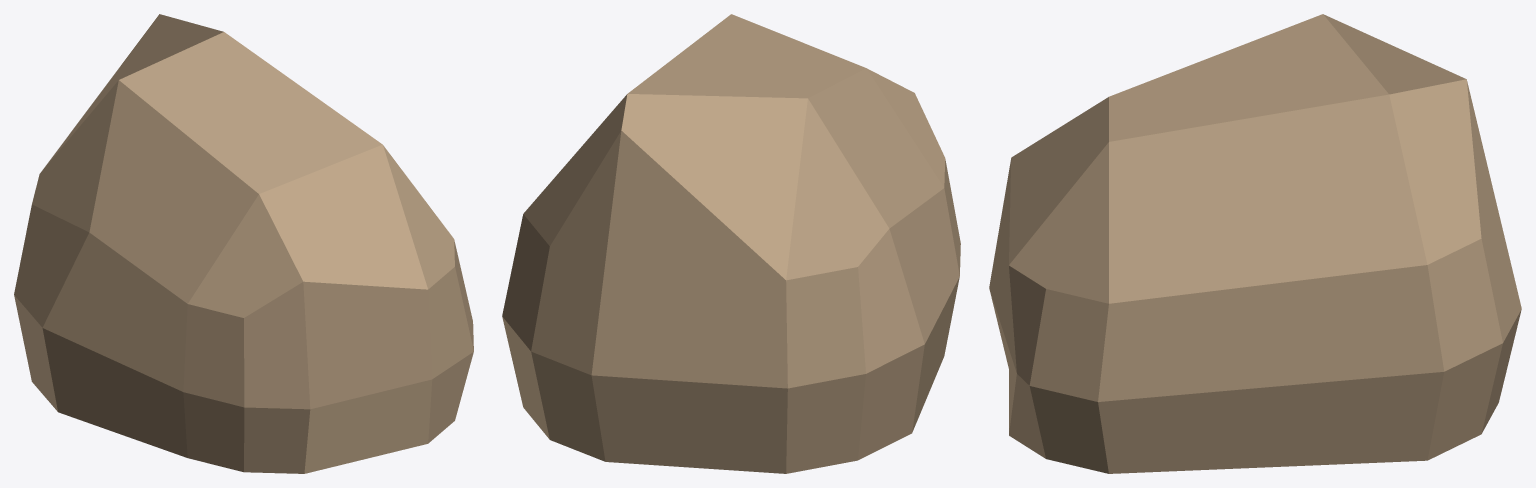
File: rock_17.FBX
The picture shows the model from 3 angles, left to right: view 1: azimuth 30°, elevation 25°; view 2: azimuth 150°, elevation 25°; view 3: azimuth 270°, elevation 25°; orthographic projection. The views are drawn at different scales.
Parts seen in each view (by area): view 1: rock_17; view 2: rock_17; view 3: rock_17.
Part boxes in pixels (<box>): rock_17: <box>14,14,473,473</box>; rock_17: <box>502,14,960,473</box>; rock_17: <box>989,14,1521,473</box>.
Size of the model in its own units: 1095 by 914 by 1330.
